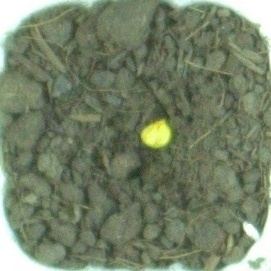pepper seed: (49, 41, 224, 192)
